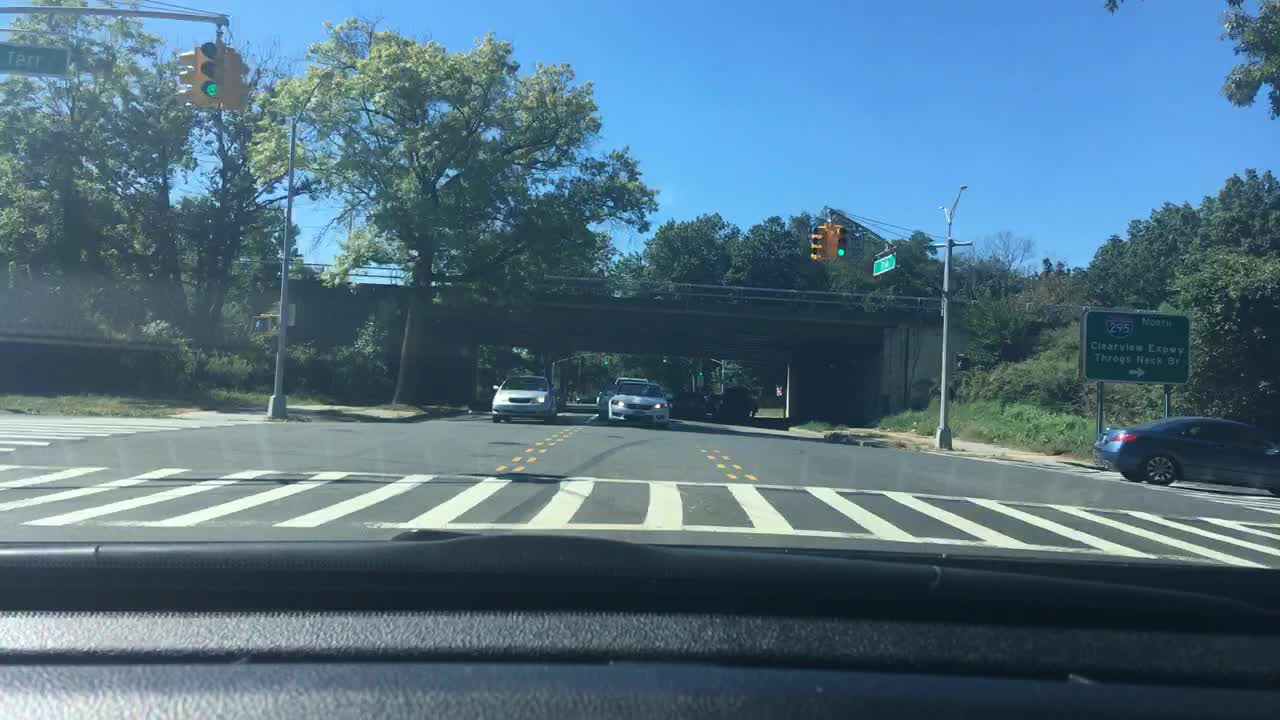car: (1089, 412, 1278, 501), (488, 374, 561, 426), (601, 381, 678, 430), (715, 387, 760, 425), (675, 389, 711, 423), (594, 388, 614, 419), (544, 282, 586, 296), (551, 388, 570, 414), (664, 388, 680, 416), (573, 392, 600, 408), (643, 289, 678, 301), (614, 375, 649, 386)
traffic light: (224, 46, 252, 111), (197, 40, 222, 108), (173, 46, 199, 104), (806, 225, 827, 265), (246, 311, 278, 337), (825, 225, 850, 258), (659, 353, 669, 367)
traffic sign: (1079, 310, 1192, 383), (0, 44, 70, 76), (869, 249, 899, 280), (1073, 311, 1084, 384), (846, 222, 864, 262), (287, 301, 299, 331), (773, 381, 783, 401), (696, 373, 704, 387)
